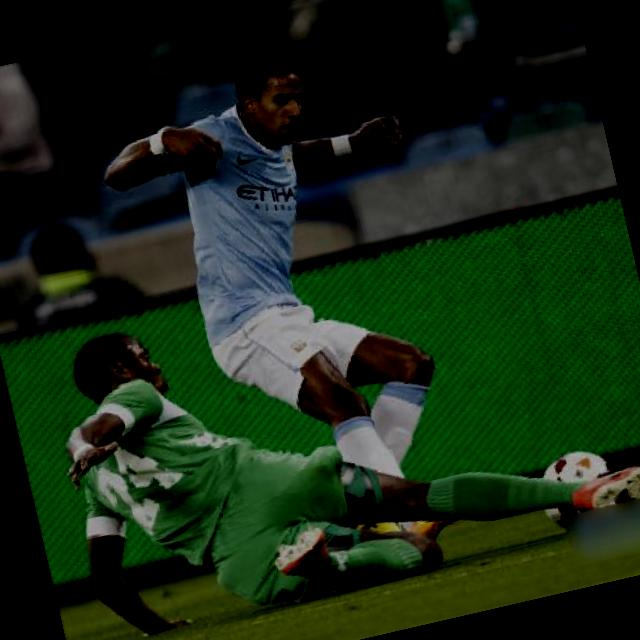Person: (95, 12, 468, 514)
